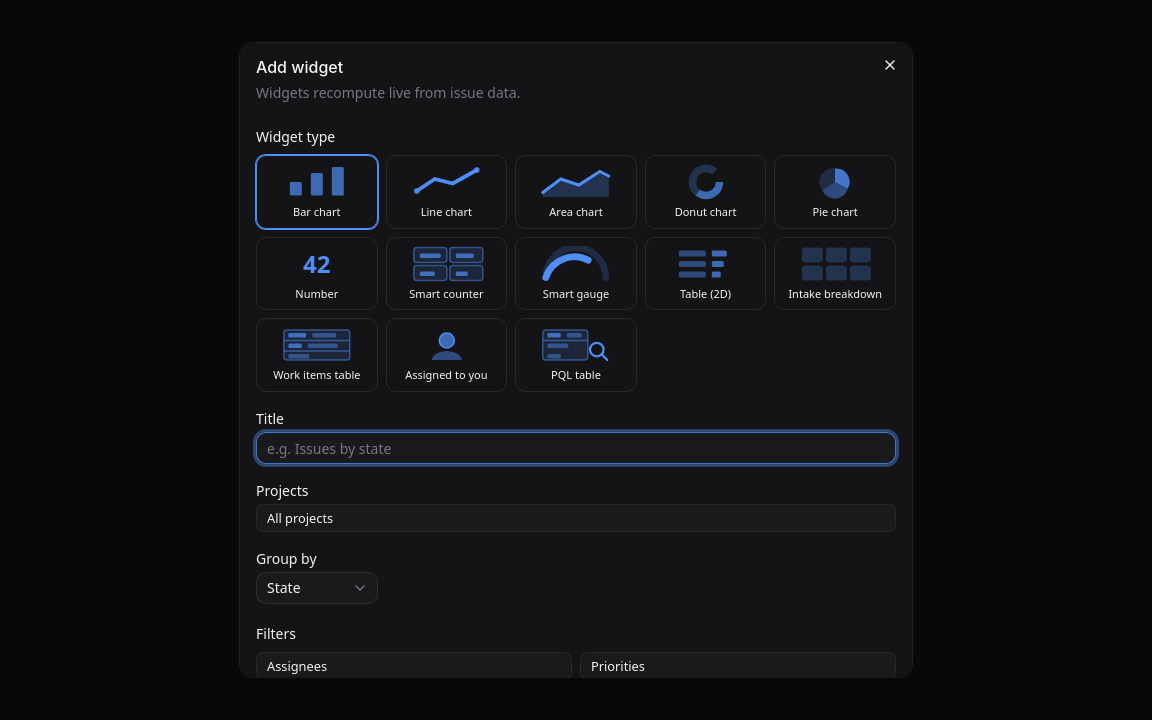
Test case: WidgetDialog PQL panel all-projects scope (C102T1) › keeps the 'All projects' label after deselecting back to zero
Click the radio button labelled "PQL table". click: (576, 355)
box: [515,319,637,392]
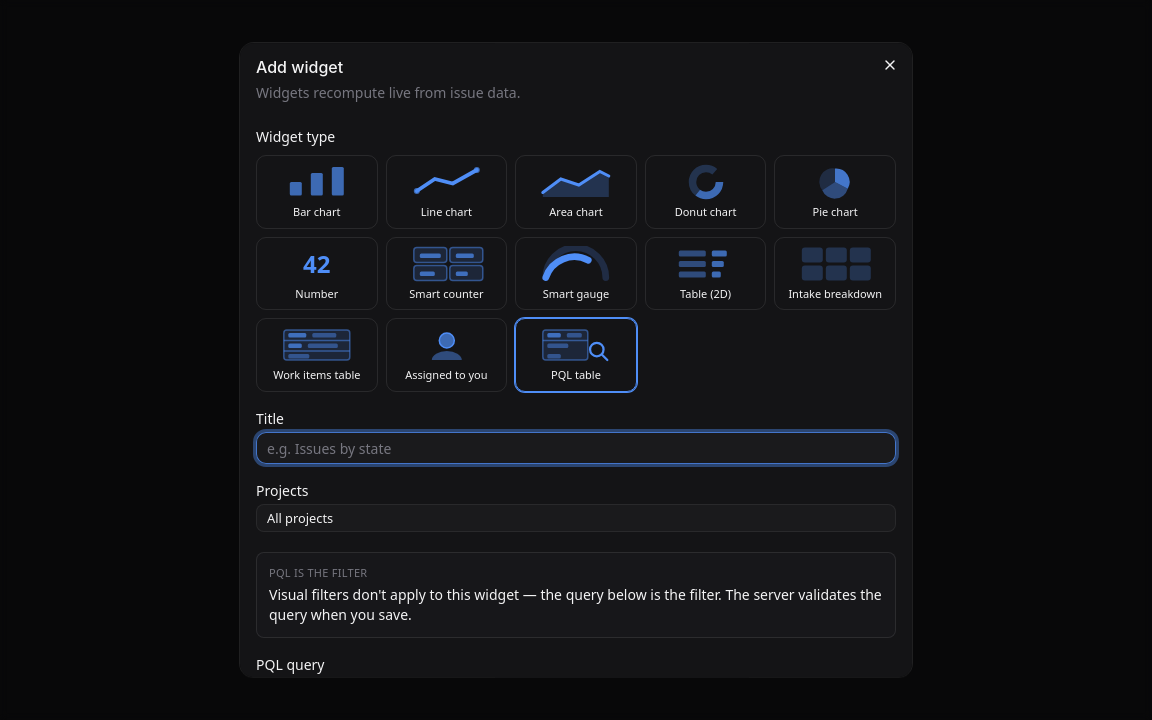
Click the button "All projects". click: (300, 518)
box: [256,504,896,532]
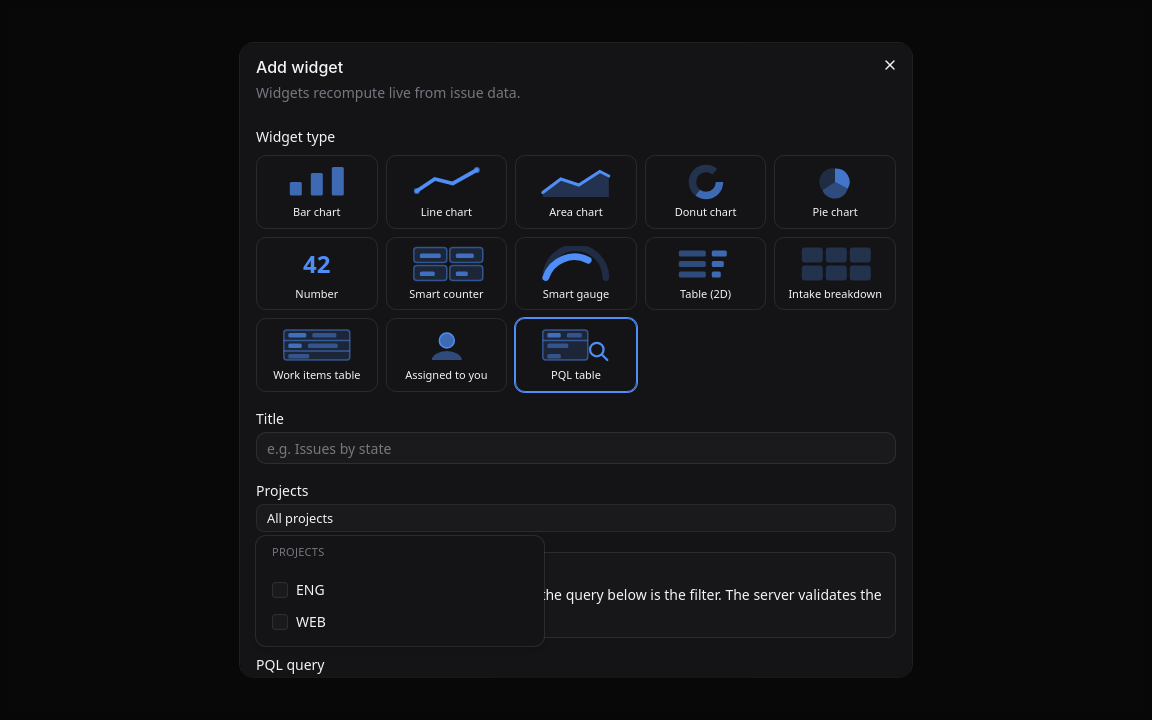
Now the checkbox named "ENG" next to "ENG" is shown
Click the checkbox named "ENG" next to "ENG". click: (280, 590)
box: [272,582,288,598]
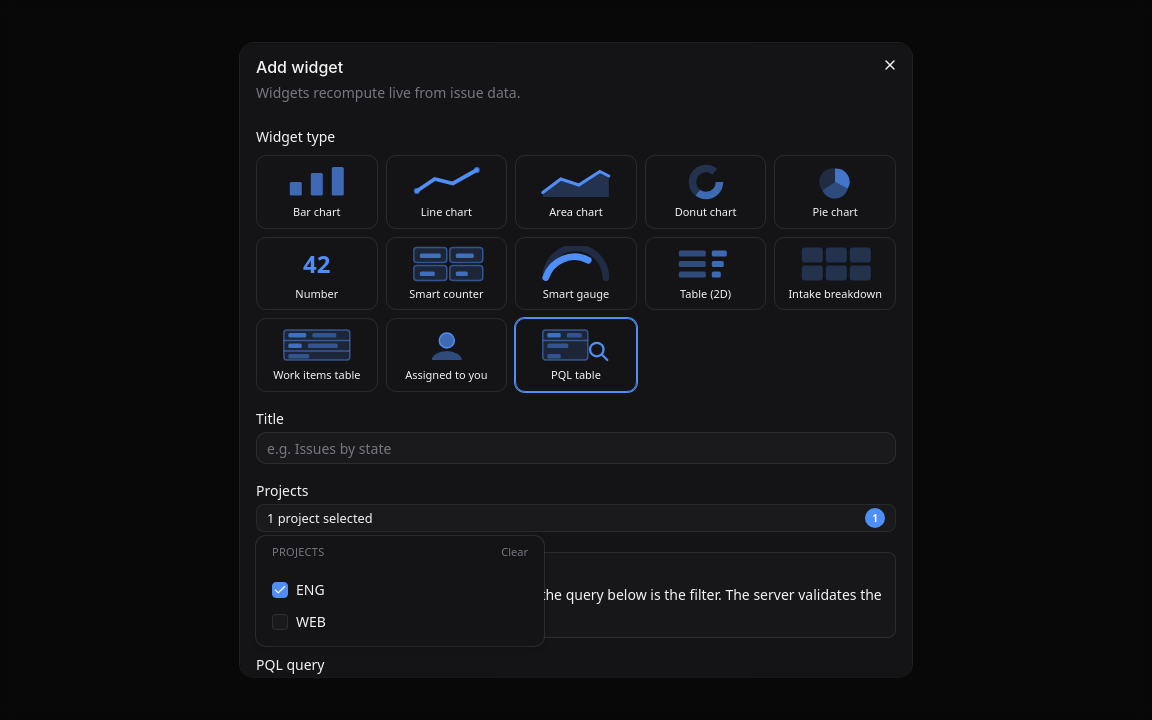
Now the button "1 project selected 1" is shown, box [256,504,896,532]
Click the checkbox named "ENG" next to "ENG". click: (280, 590)
box: [272,582,288,598]
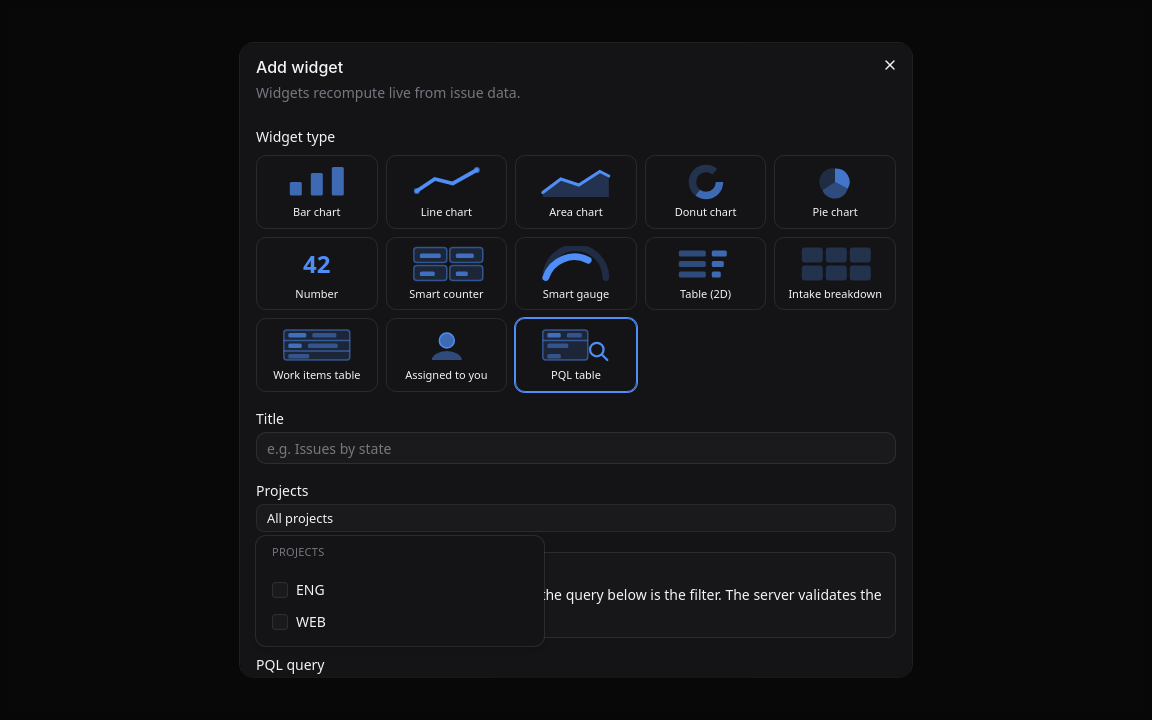
Now the button "All projects" is shown, box [256,504,896,532]
